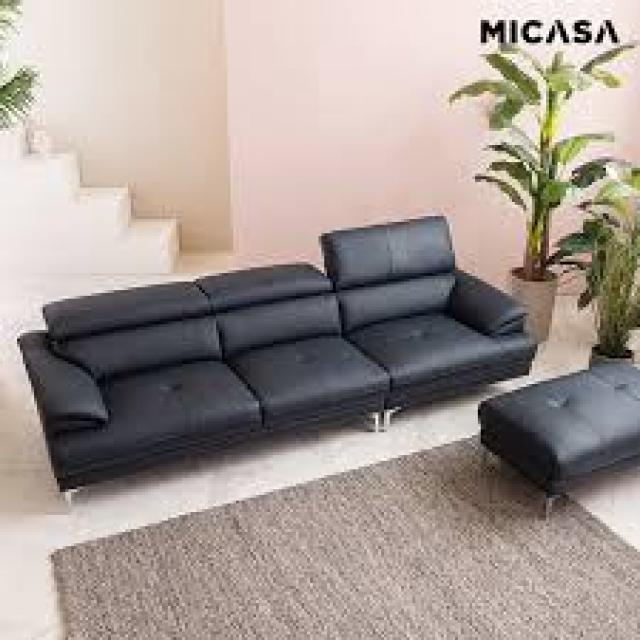Sofa: (10, 206, 560, 527)
